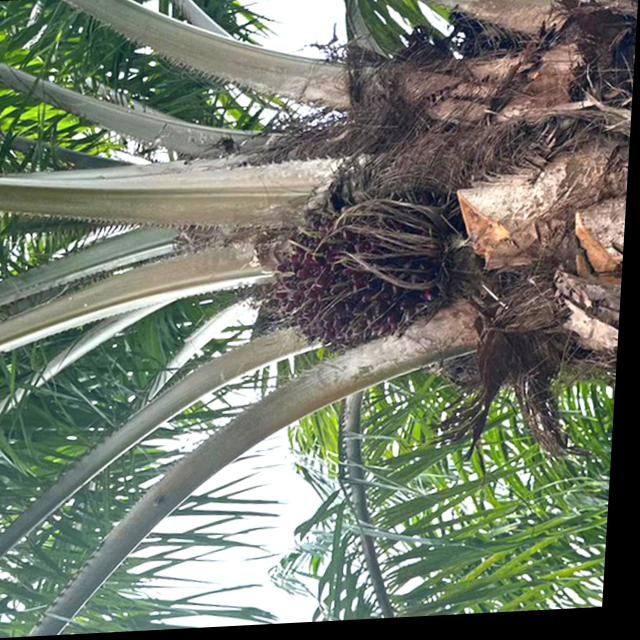ripe: (255, 172, 474, 373)
